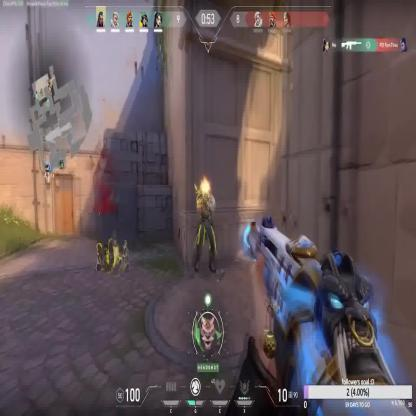enemy: (194, 176, 217, 274)
enemy_head: (200, 178, 210, 196)
